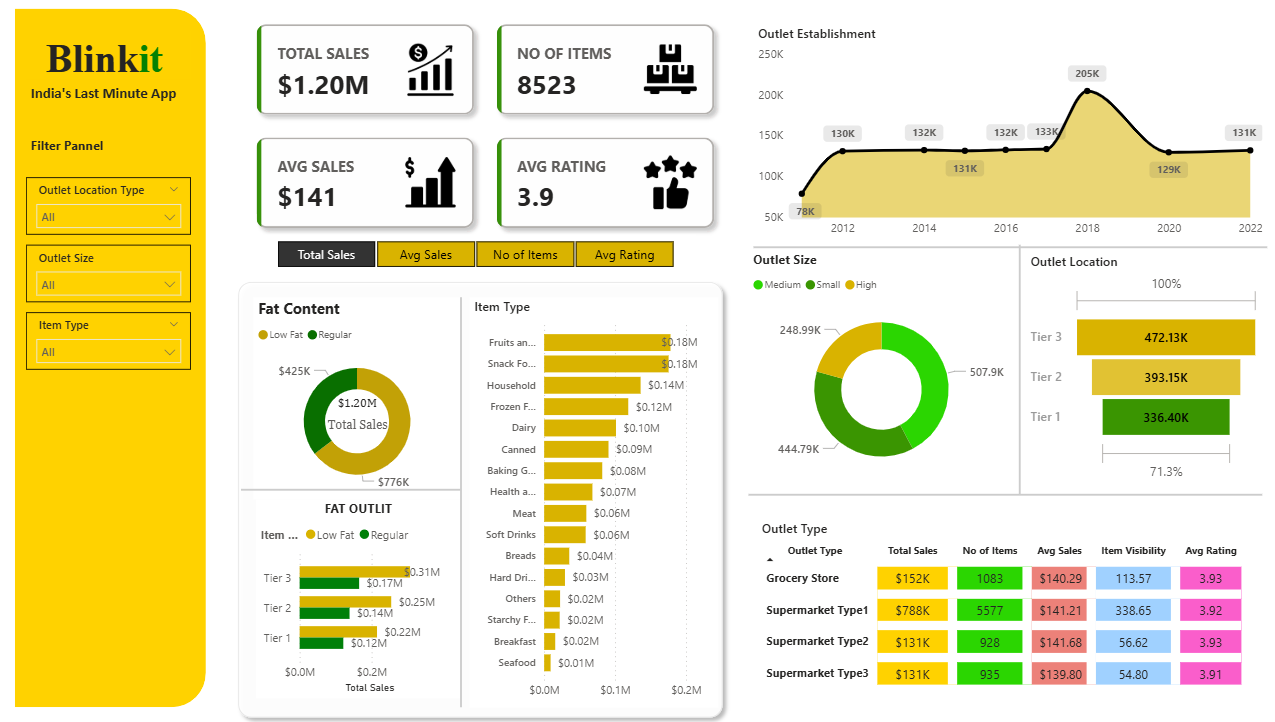

This screenshot's page, from the dashboard's own definition file:
{"tool":"powerbi","page":{"name":"Page 1","canvas":[1400,800],"ordinal":0},"visuals":[{"type":"shape","box":[46.9,24.1,205.1,749.3],"z":0},{"type":"textbox","box":[75.1,48.3,160.9,61.7],"z":1000},{"type":"textbox","box":[59,100.5,176.9,56.3],"z":2000},{"type":"cardVisual","fields":{"Data":["BlinkIT Grocery Data.Total Sales","BlinkIT Grocery Data.Avg Sales","BlinkIT Grocery Data.No of Items","BlinkIT Grocery Data.Avg Rating"]},"box":[289.5,24.1,525.5,269.4],"z":3000},{"type":"shape","box":[277.5,284.2,550.9,509.4],"z":4000},{"type":"donutChart","title":"Fat Content","fields":{"Y":["BlinkIT Grocery Data.Total Sales"],"Category":["BlinkIT Grocery Data.Item Fat Content"]},"box":[303,333.8,222.5,217.2],"z":5000},{"type":"slicer","fields":{"Values":["Metrics.Metrics"]},"box":[319,293.6,467.8,40.2],"z":6000},{"type":"clusteredBarChart","title":"FAT OUTLIT","fields":{"Y":["BlinkIT Grocery Data.Total Sales"],"Category":["BlinkIT Grocery Data.Outlet Location Type"],"Series":["BlinkIT Grocery Data.Item Fat Content"]},"box":[305.6,550.9,219.8,213.1],"z":7000},{"type":"card","fields":{"Values":["BlinkIT Grocery Data.Total Sales"]},"box":[371.3,431.6,87.1,50.9],"z":8000},{"type":"shape","box":[289.5,526.8,235.9,26.8],"z":9000},{"type":"shape","box":[443.7,333.8,163.5,439.7],"z":10000},{"type":"barChart","title":" Item Type","fields":{"Y":["BlinkIT Grocery Data.Total Sales"],"Category":["BlinkIT Grocery Data.Item Type"]},"box":[534.9,333.8,266.8,439.7],"z":11000},{"type":"lineChart","title":"Outlet Establishment ","fields":{"Category":["BlinkIT Grocery Data.Outlet Establishment Year"],"Y":["Sum(BlinkIT Grocery Data.Sales)"]},"box":[839.1,41.6,550.9,235.9],"z":12000},{"type":"donutChart","title":"Outlet Size","fields":{"Y":["Sum(BlinkIT Grocery Data.Sales)"],"Category":["BlinkIT Grocery Data.Outlet Size"]},"box":[848.5,301.6,285.5,237.3],"z":13000},{"type":"funnel","title":"Outlet Location","fields":{"Category":["BlinkIT Grocery Data.Outlet Location Type"],"Y":["Sum(BlinkIT Grocery Data.Sales)"]},"box":[1134.1,301.6,256,237.3],"z":14000},{"type":"pivotTable","title":"Outlet Type","fields":{"Rows":["BlinkIT Grocery Data.Outlet Type"],"Values":["BlinkIT Grocery Data.Total Sales","BlinkIT Grocery Data.No of Items","BlinkIT Grocery Data.Avg Sales","Sum(BlinkIT Grocery Data.Item Visibility)","BlinkIT Grocery Data.Avg Rating"]},"box":[844.5,559,540.2,197.1],"z":15000},{"type":"shape","box":[839.1,266.8,550.9,26.8],"z":16000},{"type":"shape","box":[833.8,532.2,550.9,26.8],"z":17000},{"type":"shape","box":[1115.3,277.5,18.8,268.1],"z":18000},{"type":"slicer","fields":{"Values":["BlinkIT Grocery Data.Outlet Location Type"]},"box":[59,205.1,176.9,61.7],"z":19000},{"type":"slicer","fields":{"Values":["BlinkIT Grocery Data.Outlet Size"]},"box":[59,277.5,176.9,61.7],"z":20000},{"type":"slicer","fields":{"Values":["BlinkIT Grocery Data.Item Type"]},"box":[59,349.9,176.9,61.7],"z":21000},{"type":"textbox","box":[59,156.8,115.3,29.5],"z":22000}]}

Visuals, with their boxes in screenshot pixels (x1, y1, x2, y2), scaled from the page's 1400x800 canvas onto the 1275x722 screenshot:
shape: 43,22,230,698
textbox: 68,44,215,99
textbox: 54,91,215,142
cardVisual - BlinkIT Grocery Data.Total Sales x BlinkIT Grocery Data.Avg Sales: 264,22,742,265
shape: 253,256,754,716
"Fat Content" donutChart: 276,301,479,497
slicer - Metrics.Metrics: 291,265,717,301
"FAT OUTLIT" clusteredBarChart: 278,497,478,690
card - BlinkIT Grocery Data.Total Sales: 338,390,417,435
shape: 264,475,478,500
shape: 404,301,553,698
" Item Type" barChart: 487,301,730,698
"Outlet Establishment " lineChart: 764,38,1266,250
"Outlet Size" donutChart: 773,272,1033,486
"Outlet Location" funnel: 1033,272,1266,486
"Outlet Type" pivotTable: 769,504,1261,682
shape: 764,241,1266,265
shape: 759,480,1261,504
shape: 1016,250,1033,492
slicer - BlinkIT Grocery Data.Outlet Location Type: 54,185,215,241
slicer - BlinkIT Grocery Data.Outlet Size: 54,250,215,306
slicer - BlinkIT Grocery Data.Item Type: 54,316,215,371
textbox: 54,142,159,168
